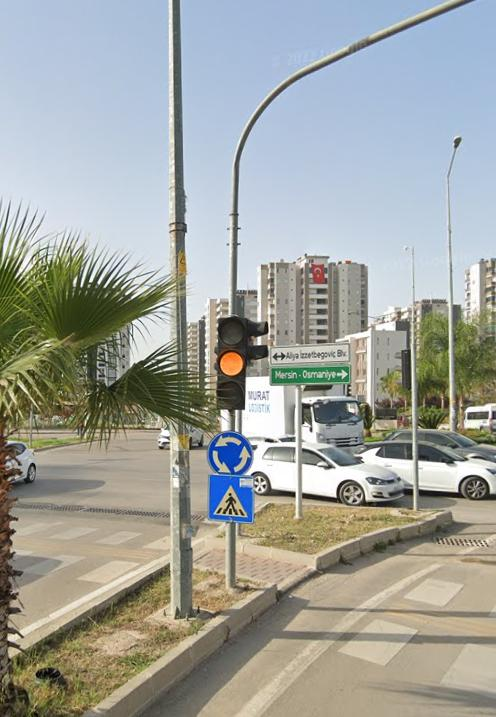crossroads: (210, 432, 253, 476)
yellowlight: (216, 318, 246, 411)
